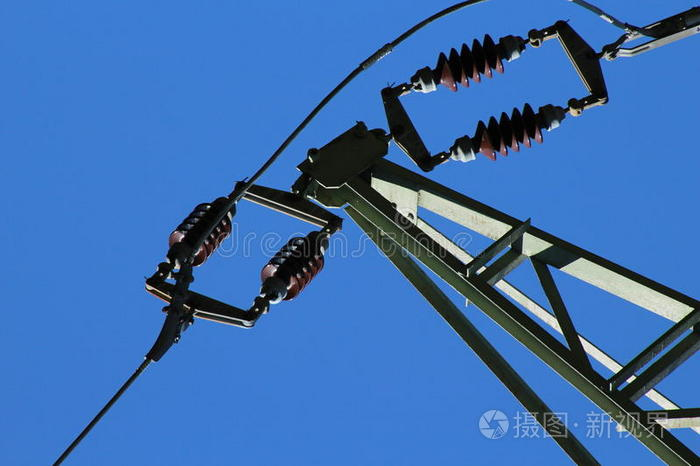insulator: (475, 103, 546, 162), (170, 201, 234, 266), (261, 237, 323, 299), (437, 36, 506, 91)
